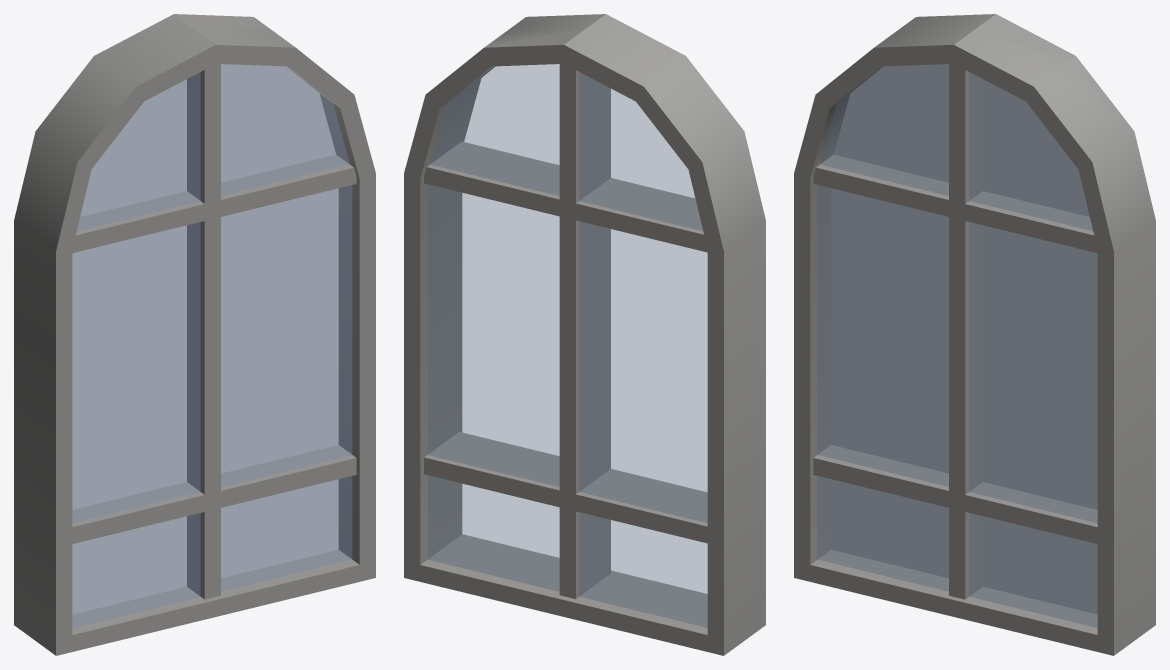
The picture shows the model from 3 angles, left to right: view 1: azimuth 30°, elevation 25°; view 2: azimuth 150°, elevation 25°; view 3: azimuth 330°, elevation 25°; orthographic projection.
Parts seen in each view (by area): view 1: Window_Round3, cutout; view 2: Window_Round3; view 3: Window_Round3, cutout.
Part boxes in pixels (x1=…): Window_Round3: x1=14, y1=14, x2=375, y2=655; cutout: x1=72, y1=64, x2=338, y2=614; Window_Round3: x1=404, y1=14, x2=765, y2=655; Window_Round3: x1=794, y1=14, x2=1155, y2=655; cutout: x1=831, y1=64, x2=1097, y2=614.
Bounding box in the file's own units: 0.9064 × 1.55 × 0.2066.
